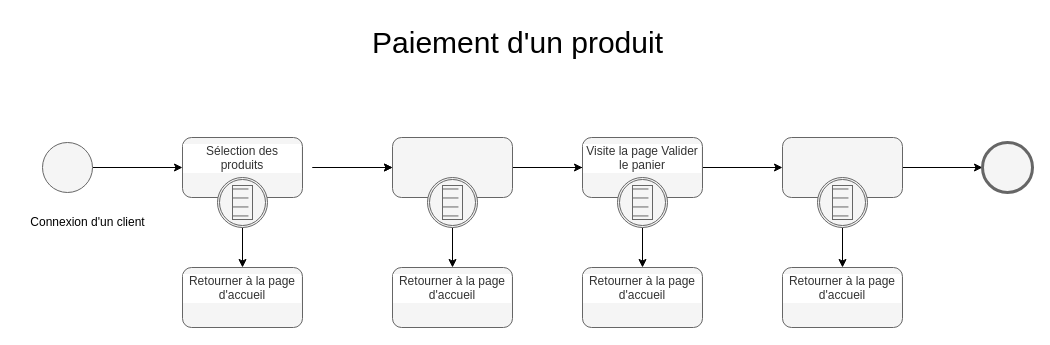
Some shapes in this 1050 by 345 pixel diagram are drawn without their labels. The shapes that lost their labels are listed below. From the top down, each one's centre as x and y in pixels, then its label:
pixel 452 167: Visite la page Panier
pixel 842 167: Payer le paner
